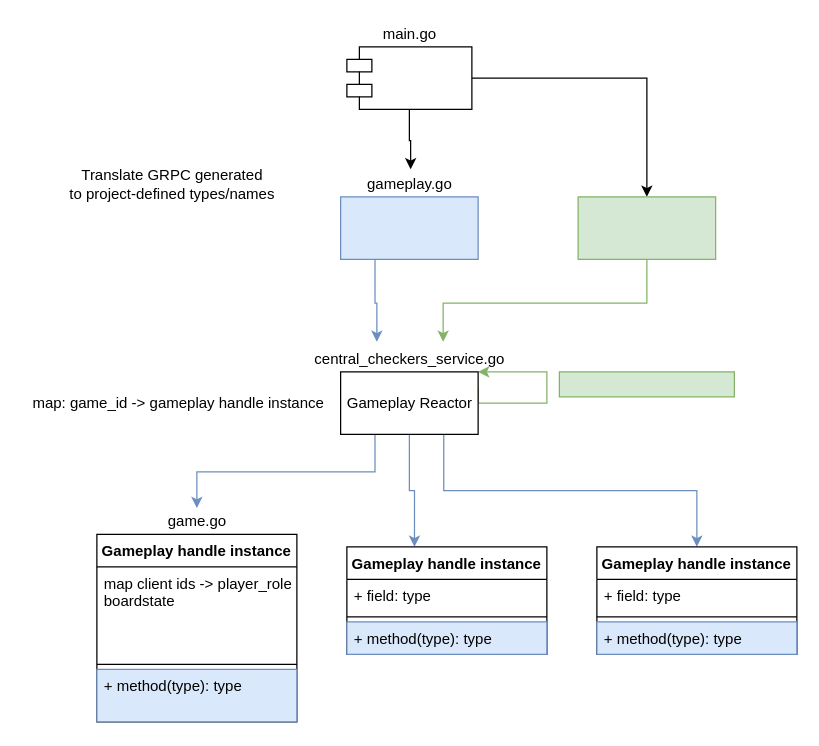
The diagram is 819 pixels wide and 746 high, and some of its shapes have lost their labels. Each missing label, with the centre of its shape:
Game control func impl: point 646,384
grpc Library Implementation (.Serve): point 409,77
Registered Service (gamecontrol): point 646,227
Registered Service (gameplay): point 408,227
